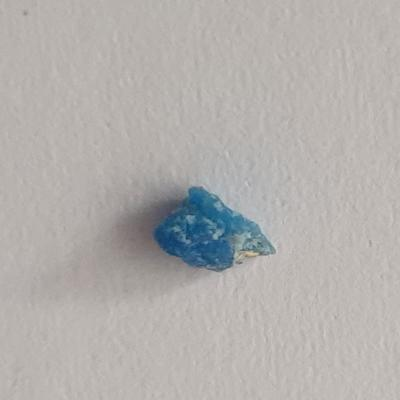plastic: (149, 183, 282, 278)
